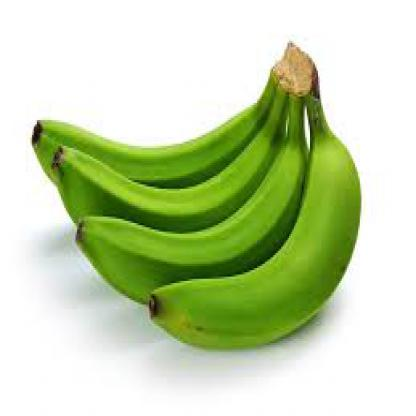Fresh: (23, 34, 379, 356)
